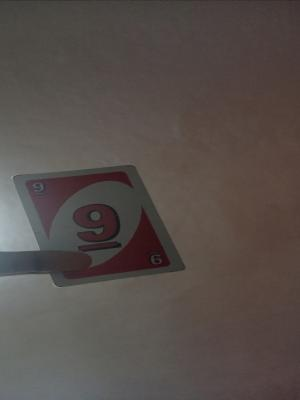num_9: (70, 199, 132, 255)
